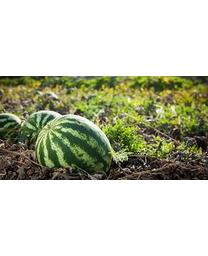watermelon: (35, 115, 113, 176)
